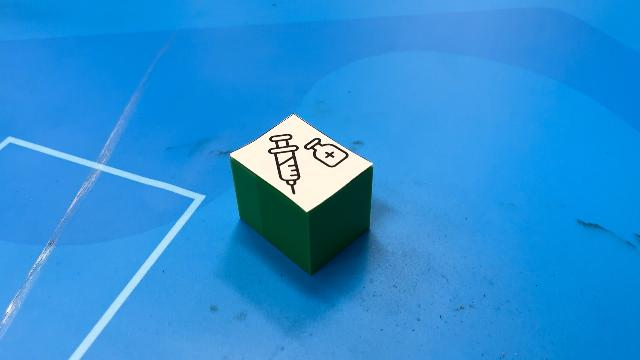syringe: (229, 116, 373, 274)
